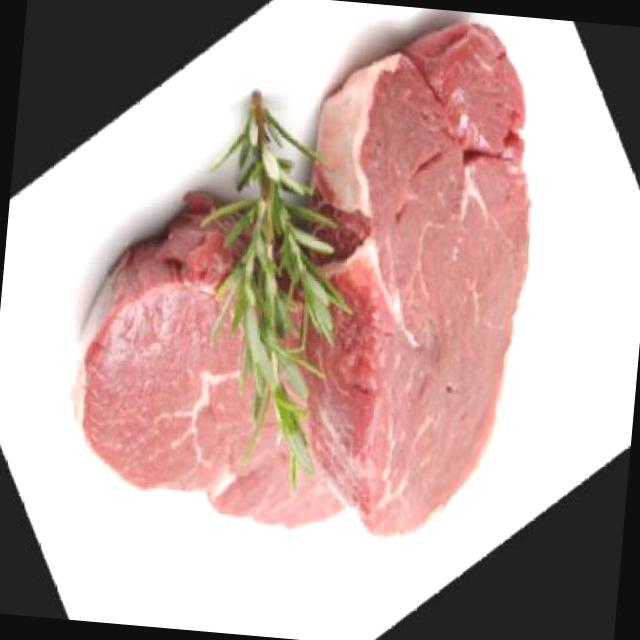beef: (167, 0, 640, 602), (0, 125, 406, 640)
